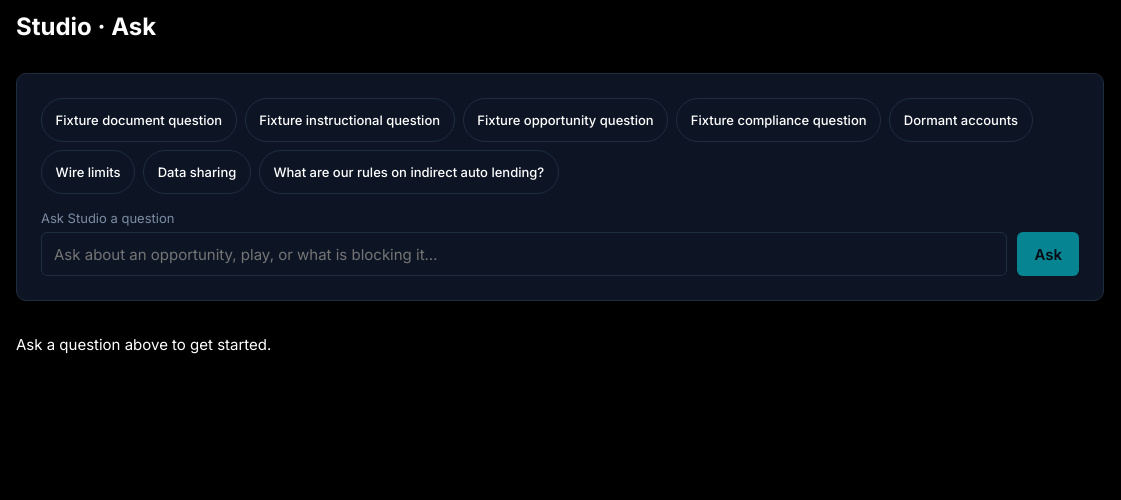
AC-A20-5 — layout-per-type (four fixture entries, one per responseType) › document renders a non-empty Artifacts list
The image size is (1121, 500).
Type "Fixture document question" into the field labelled "Ask Studio a question" at x=524, y=254, box [41, 232, 1007, 276]
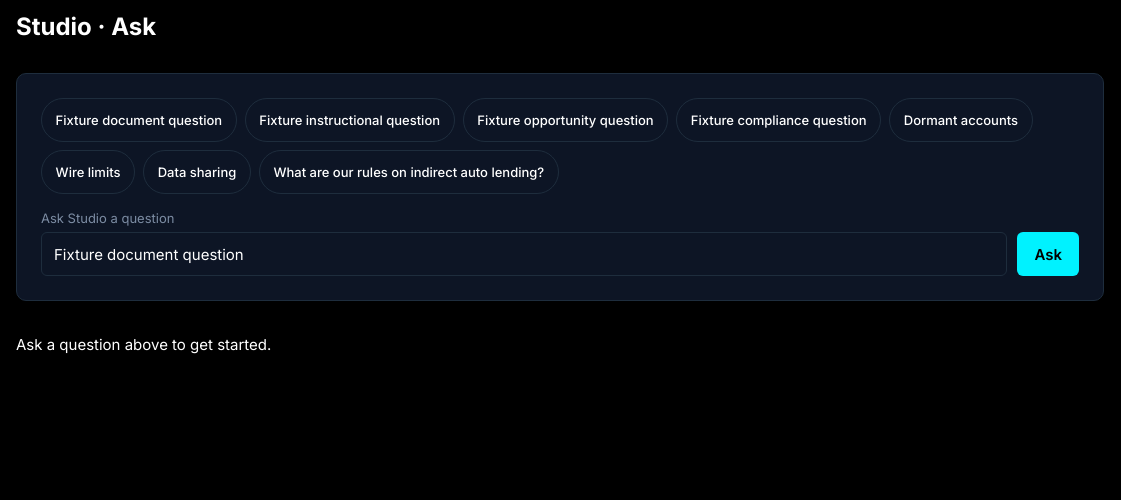
Click the button "Ask" at x=1048, y=254, box [1017, 232, 1079, 276]
Wait 800 ms
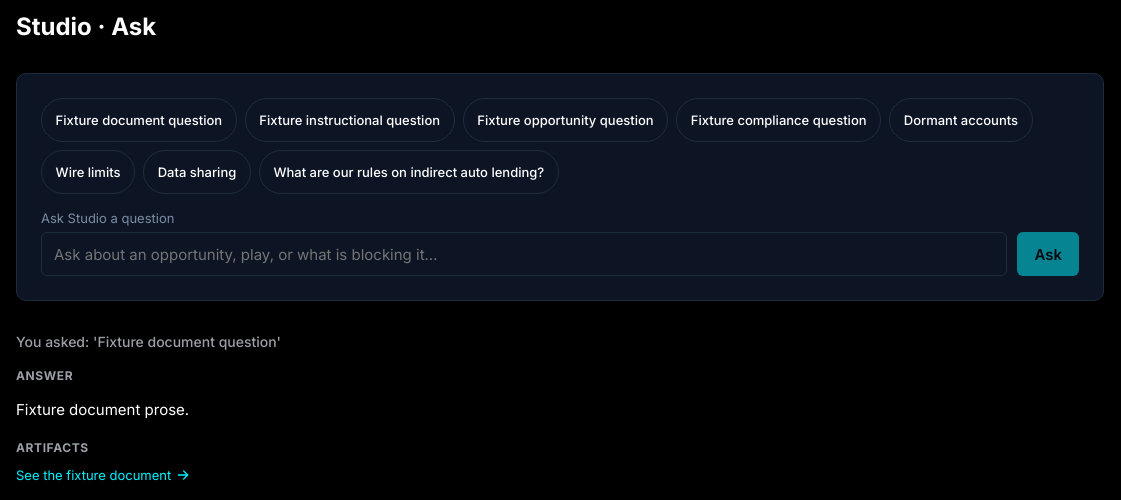
Result: the text "Fixture document prose." is shown at [16, 400, 189, 419]
Result: the text "Artifacts" is shown at [16, 440, 89, 455]
Result: the button "See the fixture document" is shown at [16, 467, 191, 483]
